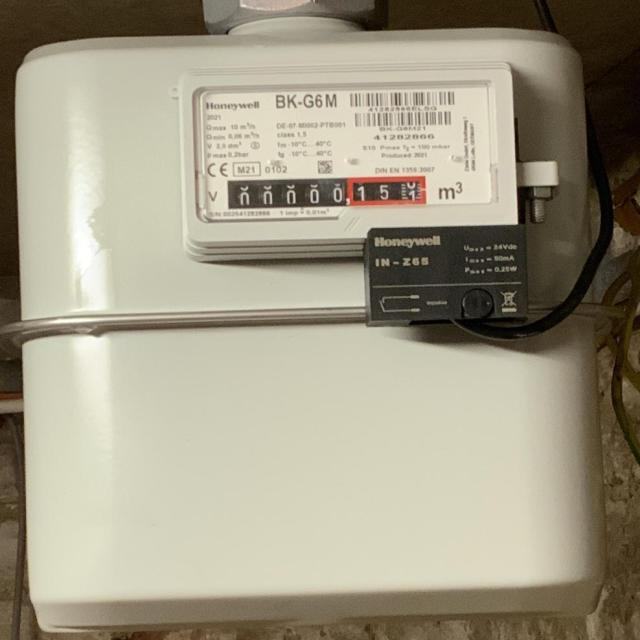gaz_meter: (193, 82, 500, 219)
indication: (229, 173, 428, 212)
